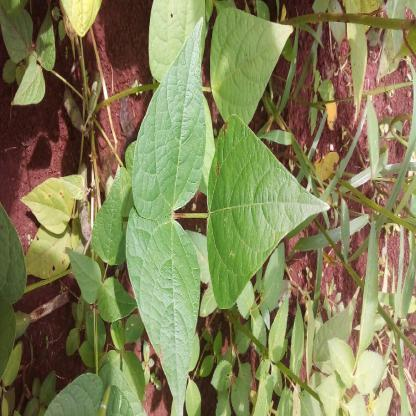Beans_Angular_LeafSpot: (198, 107, 334, 310), (9, 171, 84, 286)
